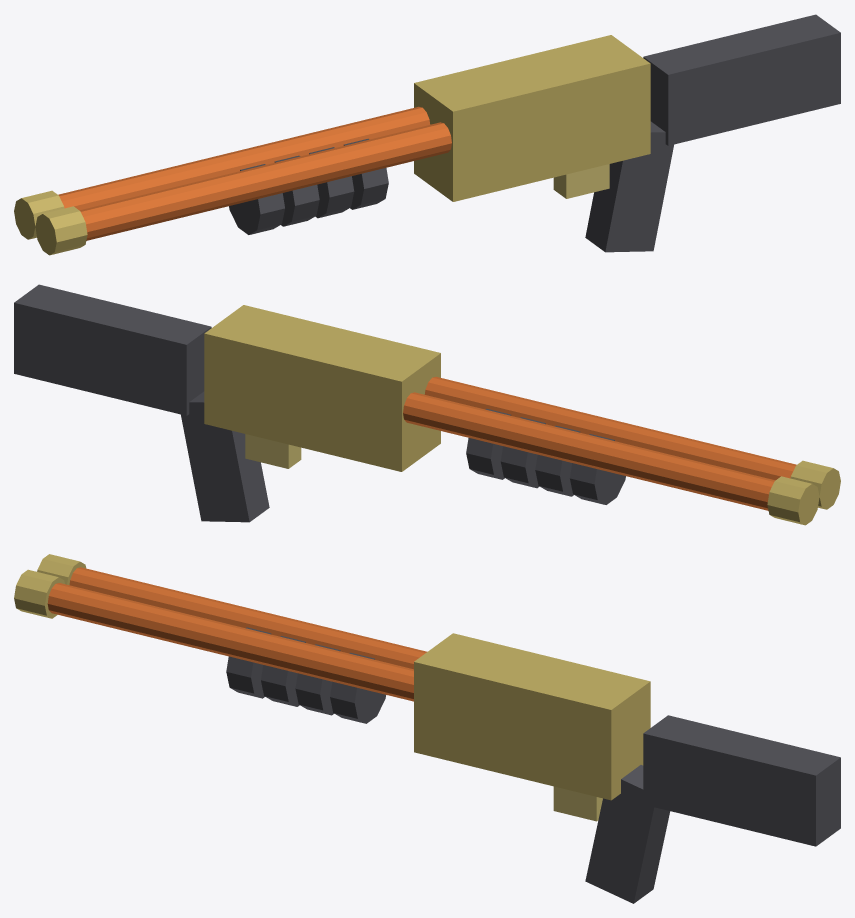
Rendered from lav_cift_pompali.glb.
3 renders of one model, top to bottom at view 1: azimuth 30°, elevation 25°; view 2: azimuth 150°, elevation 25°; view 3: azimuth 330°, elevation 25°, orthographic.
Parts seen in each view (by area): view 1: geometry_0; view 2: geometry_0; view 3: geometry_0.
Part boxes in pixels (x1=…): geometry_0: x1=14, y1=14, x2=840, y2=255; geometry_0: x1=14, y1=284, x2=840, y2=525; geometry_0: x1=14, y1=554, x2=840, y2=903.
Bounding box in the file's own units: 0.6425 × 0.1532 × 0.06.
